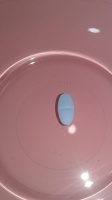Majezik: (55, 92, 75, 127)
